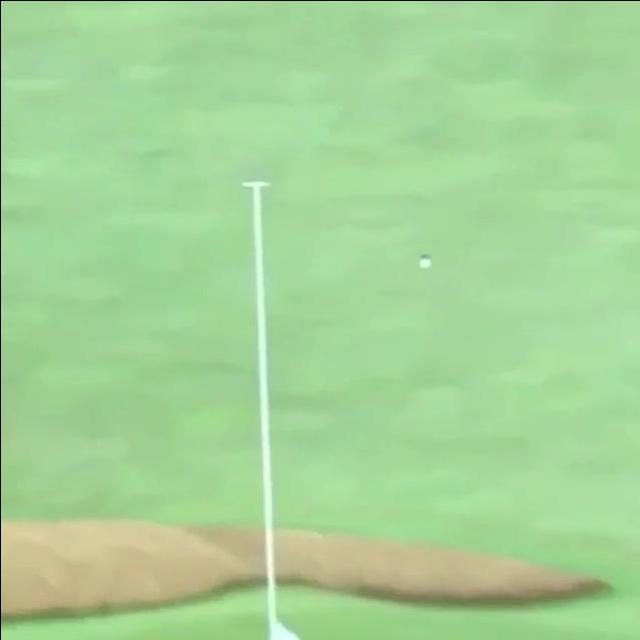golf ball: (420, 254, 435, 271)
